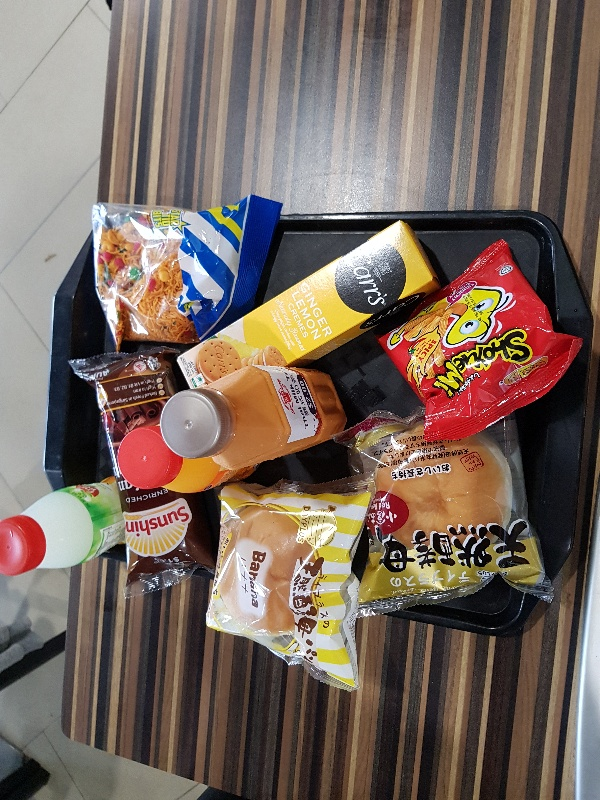Carr's Ginger Lemon Cremes: (177, 221, 443, 389)
Dayplus Banana: (202, 477, 372, 691)
Dayplus Red Bean: (337, 409, 550, 611)
Fruit Tree Yuzu Mixed Juice Drink: (1, 476, 127, 578)
ShoyueMi Spicy Flavoured Snacks: (375, 237, 582, 441)
Star Tidbits Mixer: (90, 192, 283, 352)
Sunkist Orange Juice Drink: (116, 422, 257, 494)
Sunshine Belgium Chocolate Wholemeal Cream Bun: (69, 349, 208, 594)
Thai Milk Tea: (159, 364, 345, 471)
